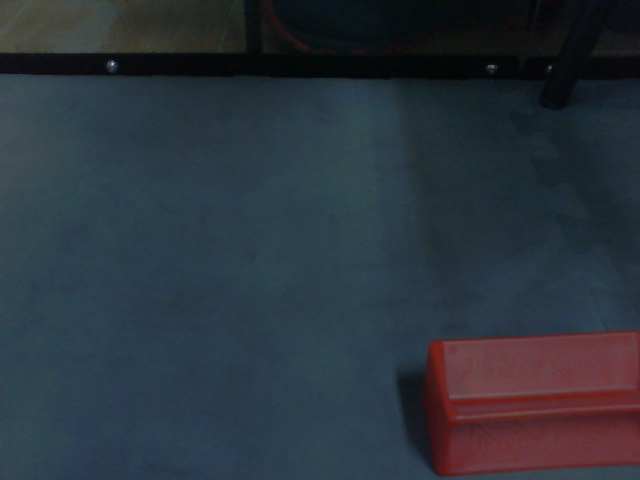RedSample: (419, 327, 640, 478)
